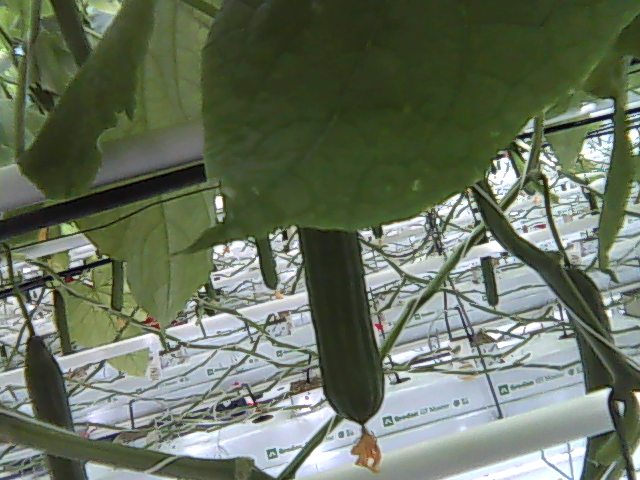concombre: (298, 228, 387, 474)
